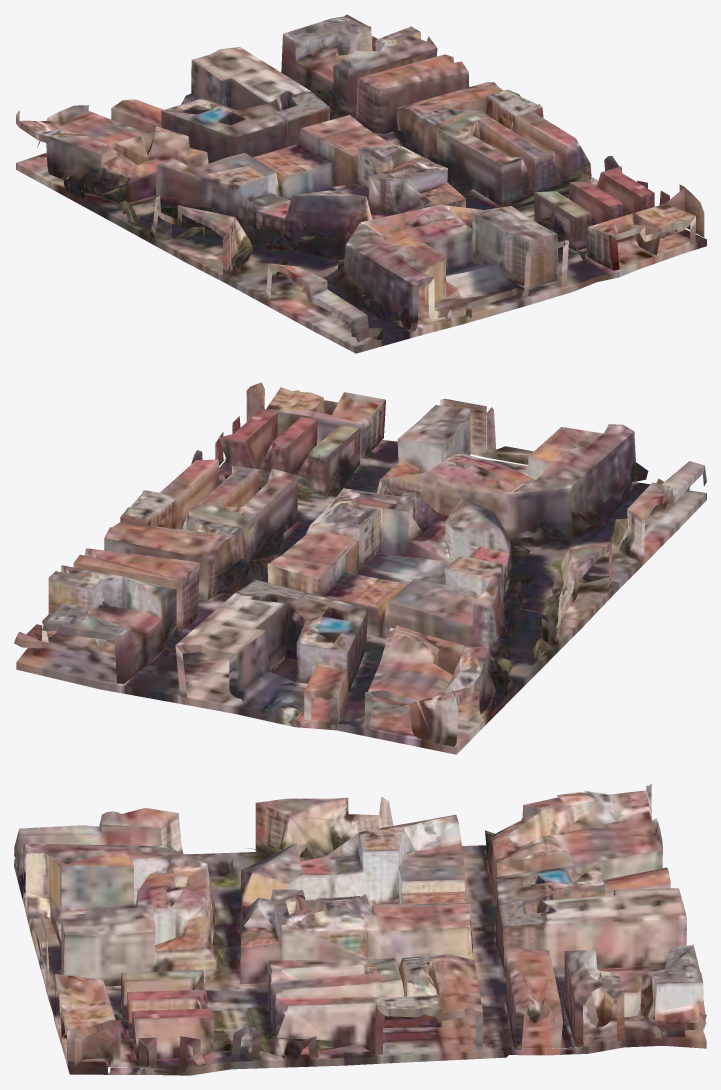
3 views of the same model, one above another, from view 1: azimuth 30°, elevation 25°; view 2: azimuth 150°, elevation 25°; view 3: azimuth 270°, elevation 25° (orthographic). The views are drawn at different scales.
Parts seen in each view (by area): view 1: Mesh_0; view 2: Mesh_0; view 3: Mesh_0.
Boxes of the visible parts, x1,y1,x2,y2 form: Mesh_0: (16,14,706,353); Mesh_0: (14,382,706,754); Mesh_0: (14,784,706,1075).
Size of the model in its own units: 267 by 39.58 by 330.
Materials: 2 (2 with a texture image).
